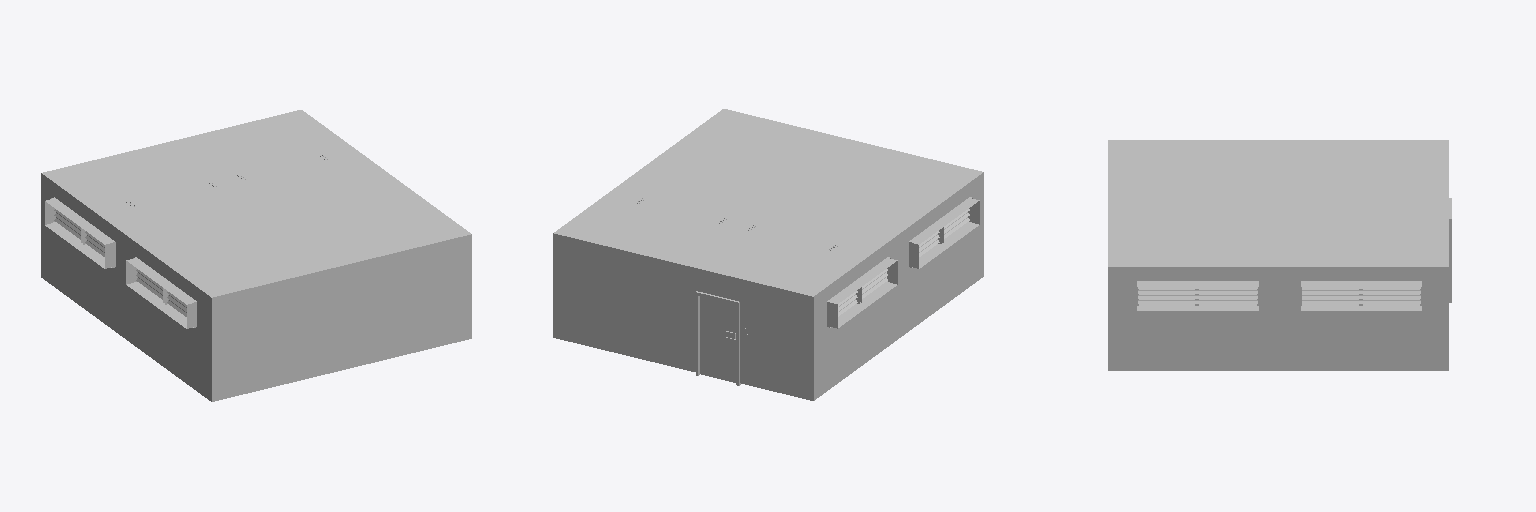
Rendered from ShiNei.obj.
3 views of the same model, side by side, from view 1: azimuth 30°, elevation 25°; view 2: azimuth 150°, elevation 25°; view 3: azimuth 270°, elevation 25° (orthographic).
Parts seen in each view (by area): view 1: ShiNei_uv; view 2: ShiNei_uv; view 3: ShiNei_uv.
Part boxes in pixels (x1,y1,x2,y2): ShiNei_uv: (41,110,471,401); ShiNei_uv: (553,109,983,400); ShiNei_uv: (1108,140,1451,370).
Size of the model in its own units: 49.94 by 18.05 by 52.79.